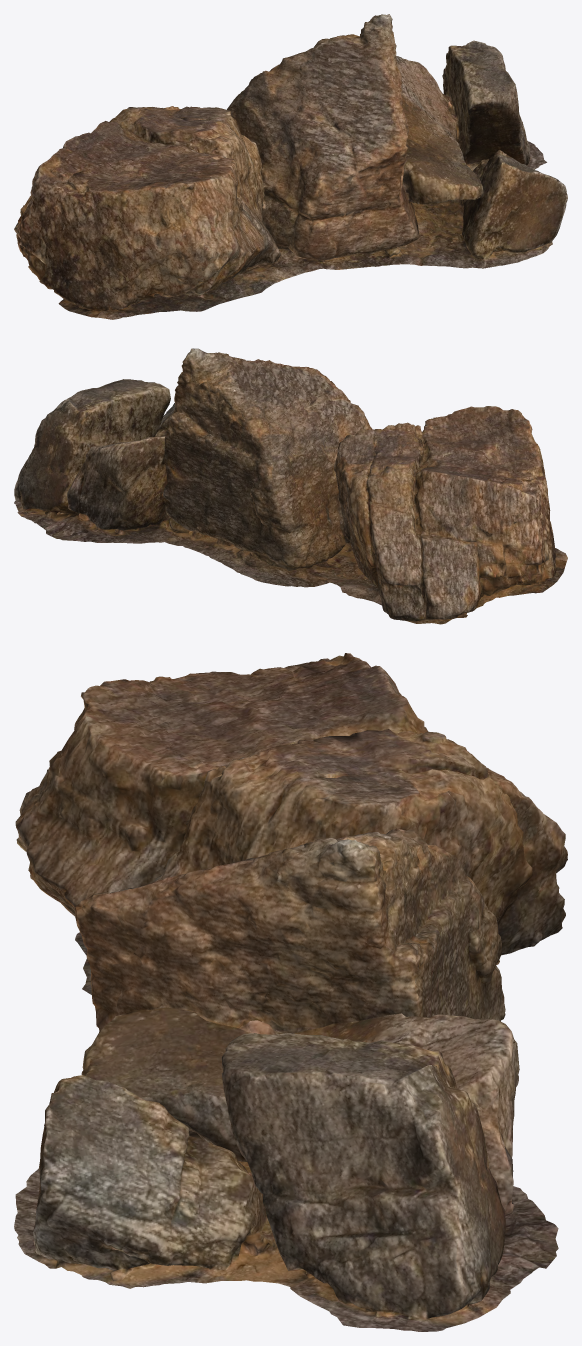
The model's file is namaqualand_boulder_02.glb.
The picture shows the model from 3 angles, top to bottom: view 1: azimuth 30°, elevation 25°; view 2: azimuth 150°, elevation 25°; view 3: azimuth 270°, elevation 25°; orthographic projection. The views are drawn at different scales.
Parts seen in each view (by area): view 1: boulder_02; view 2: boulder_02; view 3: boulder_02.
Boxes of the visible parts, left/top/right/bottom form: boulder_02: left=14, top=14, right=567, bottom=319; boulder_02: left=14, top=348, right=567, bottom=624; boulder_02: left=14, top=653, right=567, bottom=1331.
Size of the model in its own units: 2.53 by 0.8826 by 1.23.
Materials: 1 (1 with a texture image).
